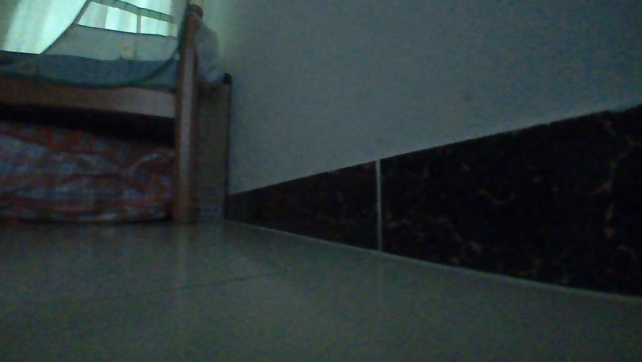bed1: (0, 0, 210, 225)
